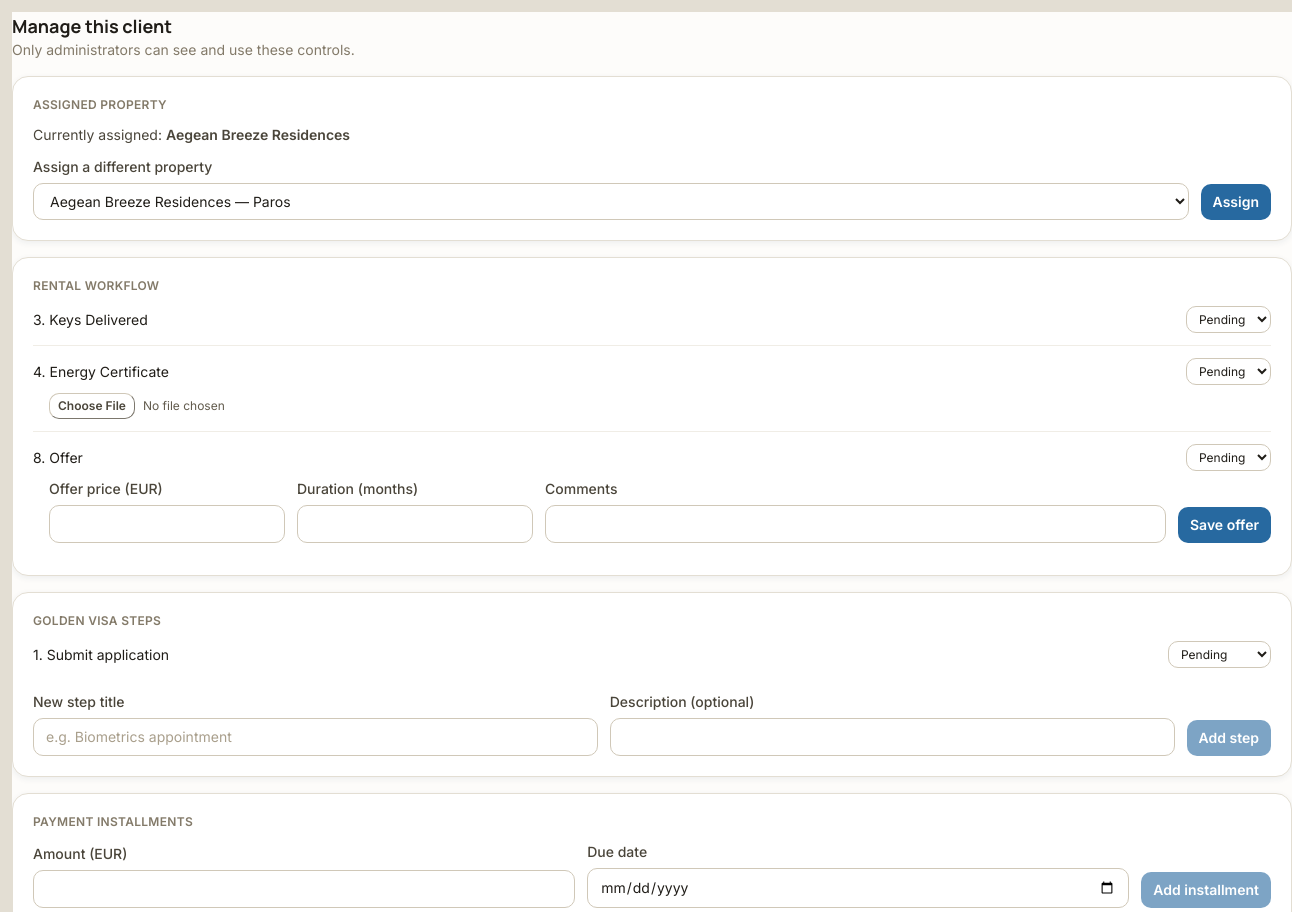
it: ClientAdminPanel — visa steps › keeps Add step disabled until a title is entered
The image size is (1292, 912).
Check: the button "Add step" is disabled, box [1186, 720, 1271, 756]
Type "Biometrics" into the field labelled "New step title". click: (315, 737)
box: [33, 718, 598, 756]
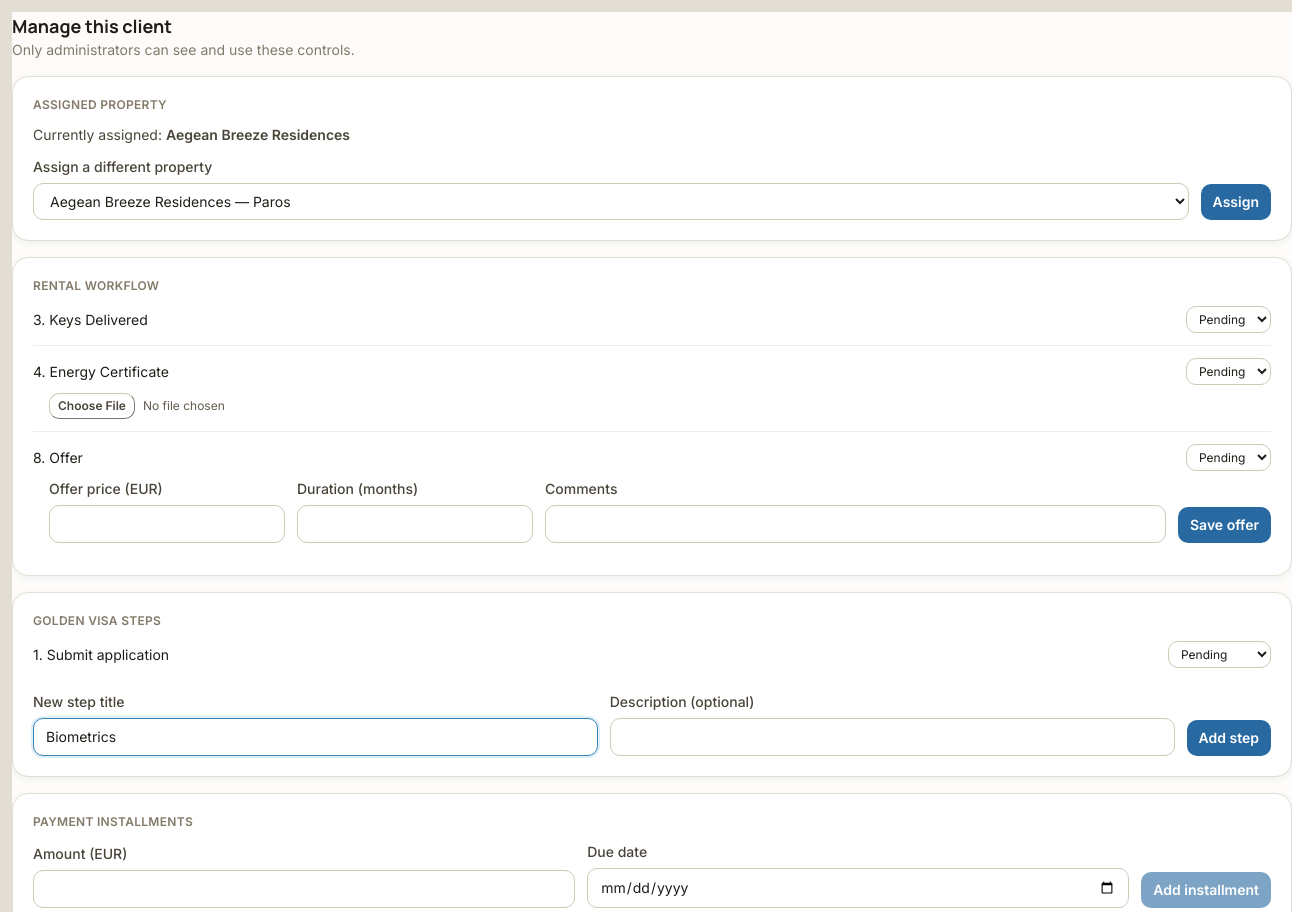
Check: the button "Add step" is enabled, box [1186, 720, 1271, 756]
